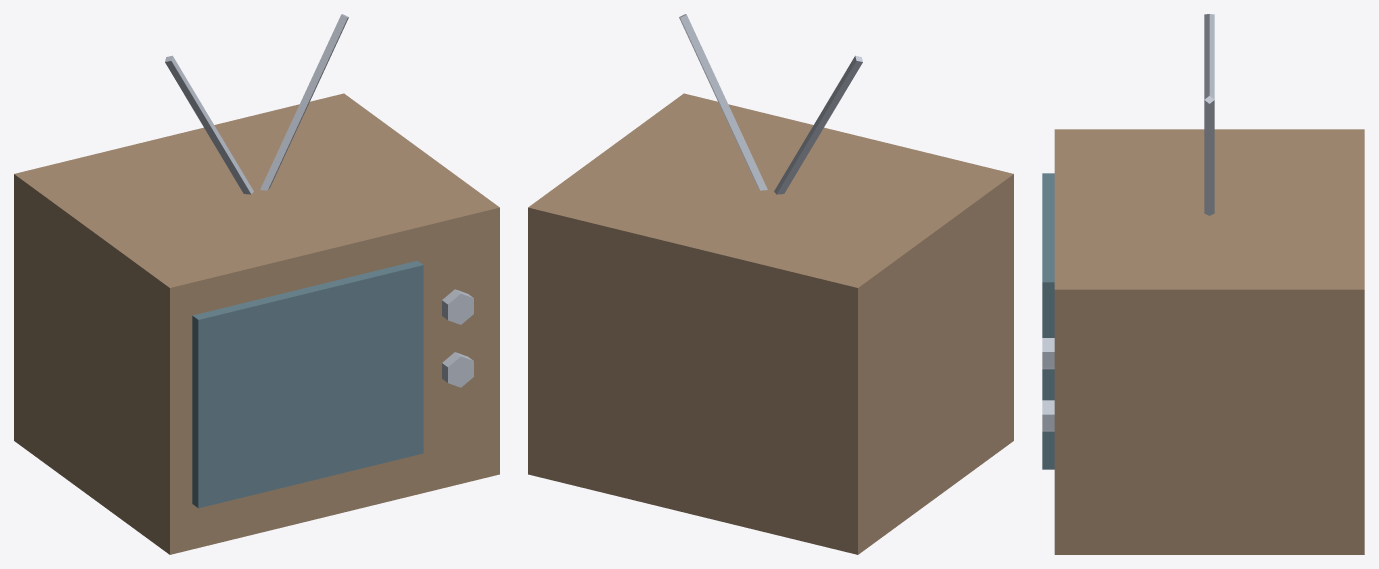
File: Basura_Rareza_Televisor.fbx
3 renders of one model, left to right at view 1: azimuth 30°, elevation 25°; view 2: azimuth 150°, elevation 25°; view 3: azimuth 270°, elevation 25°, orthographic.
Visible parts, largest first — view 1: Basura_Rareza_Televisor; view 2: Basura_Rareza_Televisor; view 3: Basura_Rareza_Televisor.
Part boxes in pixels (x1,y1,x2,y2): Basura_Rareza_Televisor: (14, 14, 499, 554); Basura_Rareza_Televisor: (528, 14, 1013, 554); Basura_Rareza_Televisor: (1042, 14, 1364, 554).
Size of the model in its own units: 1.1 by 1.37 by 0.935.
1 material, 1 textured.
